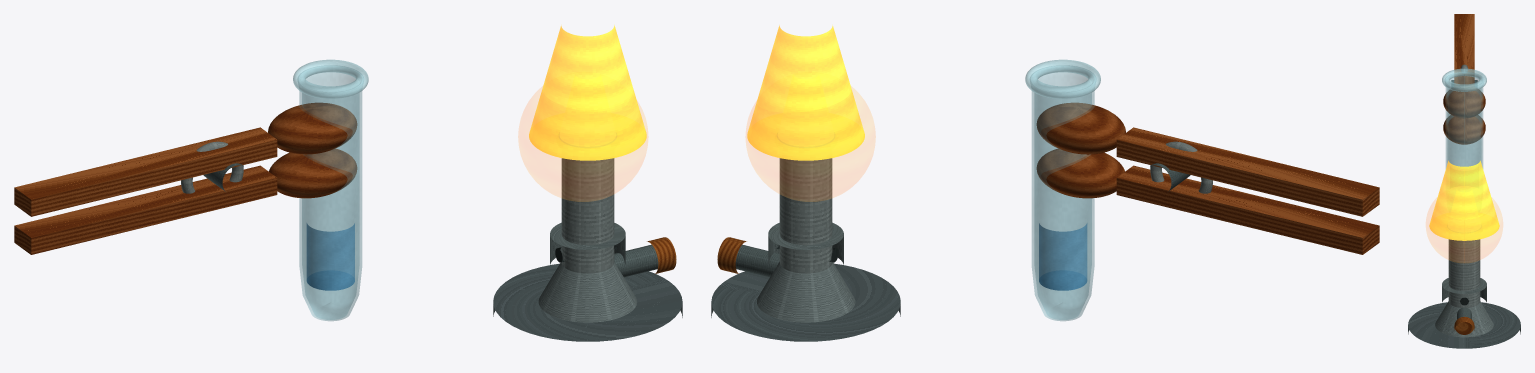
The model's file is alat-22.glb.
The picture shows the model from 3 angles, left to right: view 1: azimuth 30°, elevation 25°; view 2: azimuth 150°, elevation 25°; view 3: azimuth 270°, elevation 25°; orthographic projection. The views are drawn at different scales.
Parts seen in each view (by area): view 1: toolPart-17, flameOuter-9, hotGlow-20, toolPart-11, toolPart-12, cylinder-0, cylinder-2, cone-1, toolPart-15, toolPart-16, toolPart-19, toolPart-18 (+4 smaller); view 2: toolPart-17, flameOuter-9, hotGlow-20, toolPart-11, toolPart-12, cylinder-0, cylinder-2, cone-1, toolPart-15, toolPart-16, toolPart-19, toolPart-18 (+4 smaller); view 3: flameOuter-9, toolPart-17, hotGlow-20, cylinder-0, cylinder-2, toolPart-11, cone-1, toolPart-15, toolPart-16, toolPart-18, airCollar-4, gasValve-8 (+1 smaller).
Boxes of the visible parts, x1,y1,x2,y2 form: toolPart-17: [297, 65, 363, 321]; flameOuter-9: [529, 25, 646, 160]; hotGlow-20: [518, 86, 647, 201]; toolPart-11: [14, 127, 277, 216]; toolPart-12: [14, 165, 277, 254]; cylinder-0: [493, 263, 682, 341]; cylinder-2: [561, 158, 614, 273]; cone-1: [538, 262, 636, 322]; toolPart-15: [268, 102, 357, 154]; toolPart-16: [269, 148, 357, 198]; toolPart-19: [306, 223, 354, 290]; toolPart-18: [293, 59, 368, 98]; toolPart-17: [1030, 65, 1096, 321]; flameOuter-9: [747, 25, 864, 160]; hotGlow-20: [746, 86, 875, 201]; toolPart-11: [1116, 127, 1379, 216]; toolPart-12: [1116, 165, 1379, 254]; cylinder-0: [711, 263, 900, 341]; cylinder-2: [779, 158, 832, 273]; cone-1: [757, 262, 855, 322]; toolPart-15: [1036, 102, 1125, 154]; toolPart-16: [1036, 148, 1124, 198]; toolPart-19: [1039, 223, 1087, 290]; toolPart-18: [1025, 59, 1100, 98]; flameOuter-9: [1429, 160, 1499, 240]; toolPart-17: [1445, 72, 1483, 168]; hotGlow-20: [1426, 198, 1502, 262]; cylinder-0: [1408, 302, 1520, 348]; cylinder-2: [1448, 239, 1480, 307]; toolPart-11: [1454, 14, 1474, 85]; cone-1: [1435, 301, 1493, 337]; toolPart-15: [1443, 85, 1485, 118]; toolPart-16: [1443, 115, 1485, 144]; toolPart-18: [1442, 68, 1486, 91]; airCollar-4: [1442, 278, 1486, 302]; gasValve-8: [1454, 316, 1474, 334].
Bounding box in the file's own units: 7.1 × 3.23 × 1.8.
Materials: 21 (21 with a texture image).
